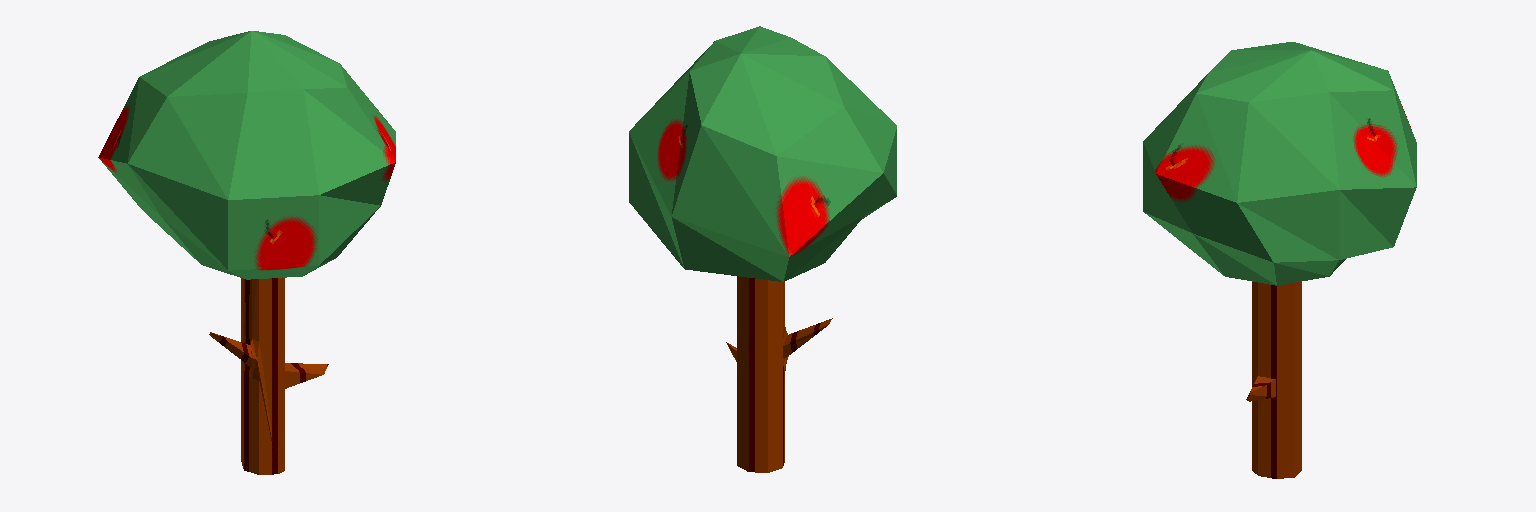
3 renders of one model, left to right at view 1: azimuth 30°, elevation 25°; view 2: azimuth 150°, elevation 25°; view 3: azimuth 270°, elevation 25°, orthographic.
Visible parts, largest first — view 1: Sphere, Cylinder; view 2: Sphere, Cylinder; view 3: Sphere, Cylinder.
Part boxes in pixels (x1,y1,x2,y2): Sphere: (98, 31, 395, 279); Cylinder: (209, 278, 328, 474); Sphere: (629, 26, 896, 281); Cylinder: (726, 276, 832, 472); Sphere: (1143, 42, 1416, 285); Cylinder: (1246, 282, 1301, 478).
Size of the model in its own units: 2.24 by 3.71 by 2.18.
Materials: 2 (2 with a texture image).